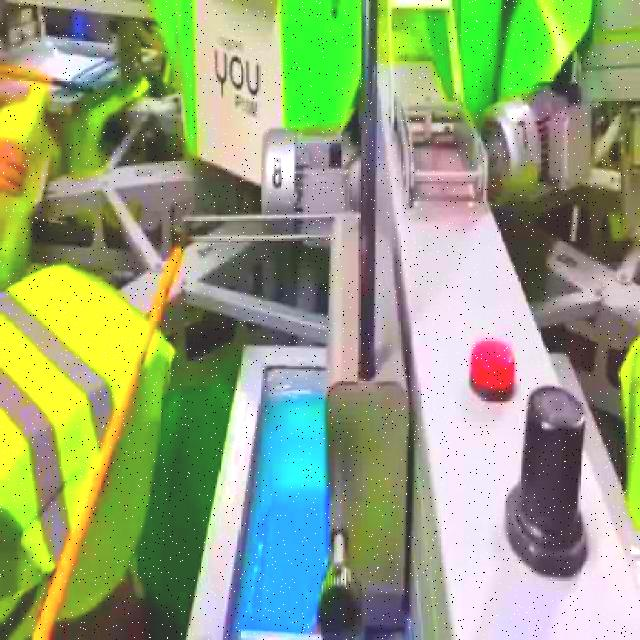Mask: (0, 263, 180, 639)
